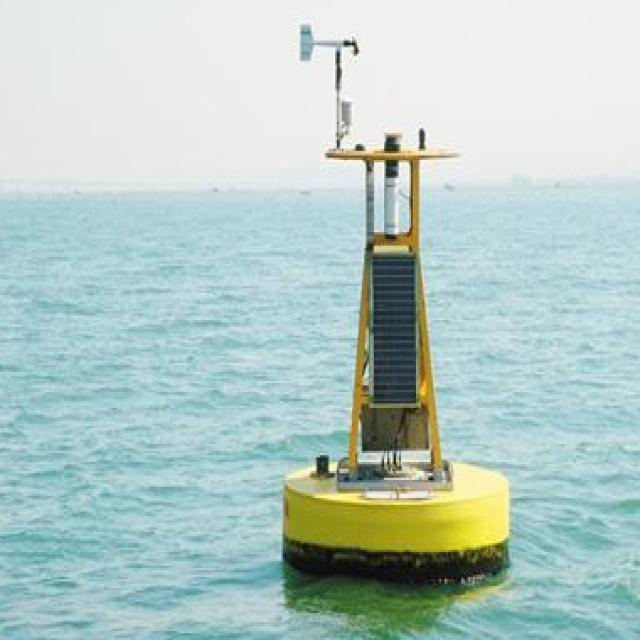buoy: (270, 85, 516, 572)
